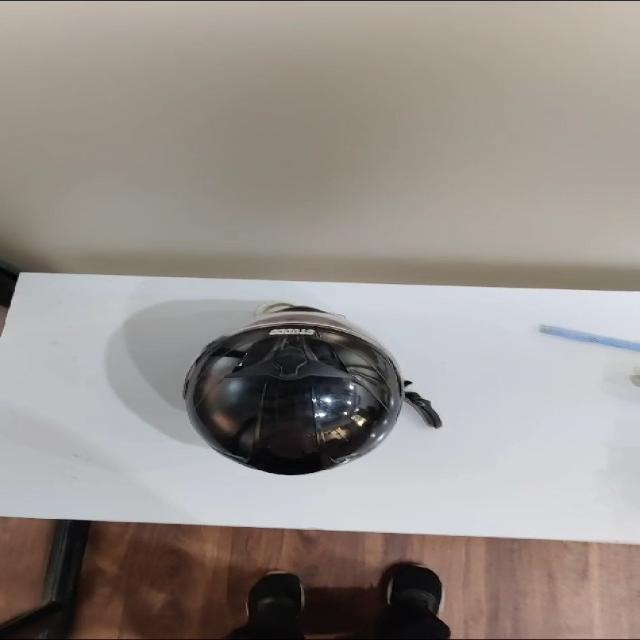helmet: (154, 299, 412, 485)
